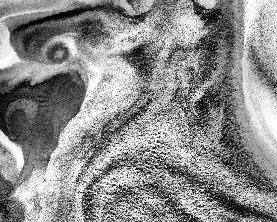CE: (36, 31, 86, 68)
